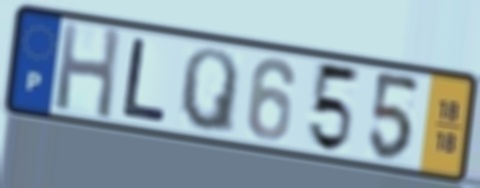5: (365, 67, 424, 167), (307, 58, 361, 156)
6: (244, 56, 297, 143)
H: (52, 19, 124, 124)
L: (119, 34, 169, 126)
Q: (177, 45, 241, 139)
